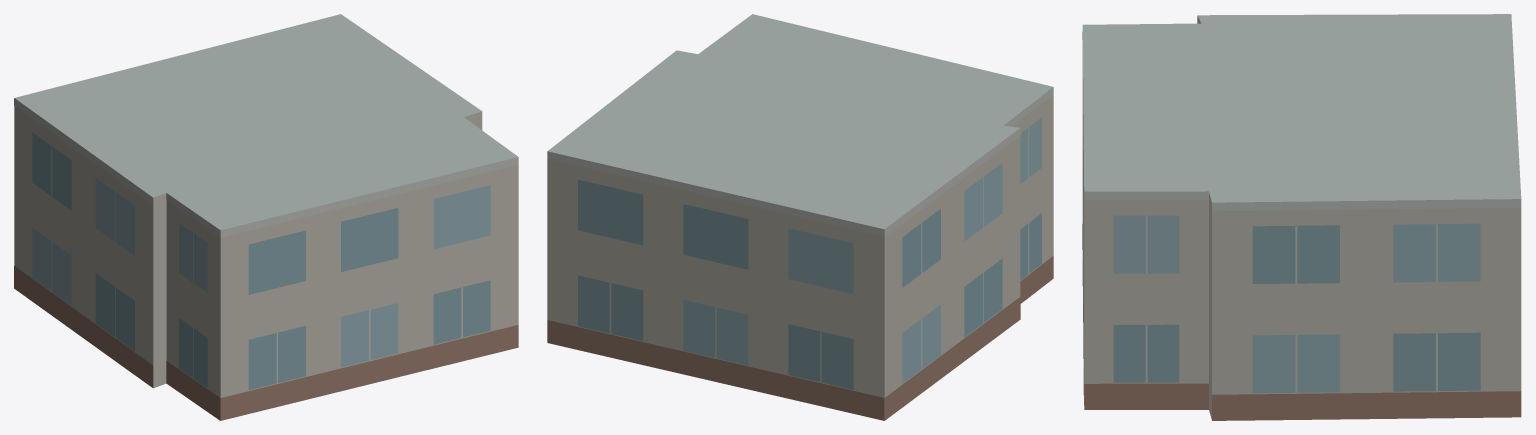
File: survey-upis-32664287.glb
3 renders of one model, left to right at view 1: azimuth 30°, elevation 25°; view 2: azimuth 150°, elevation 25°; view 3: azimuth 270°, elevation 25°, orthographic. The views are drawn at different scales.
Parts seen in each view (by area): view 1: survey-upis-32664287.tmp; view 2: survey-upis-32664287.tmp; view 3: survey-upis-32664287.tmp.
Boxes of the visible parts, left/top/right/bottom form: survey-upis-32664287.tmp: left=14, top=14, right=518, bottom=420; survey-upis-32664287.tmp: left=547, top=14, right=1053, bottom=420; survey-upis-32664287.tmp: left=1082, top=14, right=1521, bottom=420.
Bounding box in the file's own units: 11.31 × 6.1 × 11.12.
